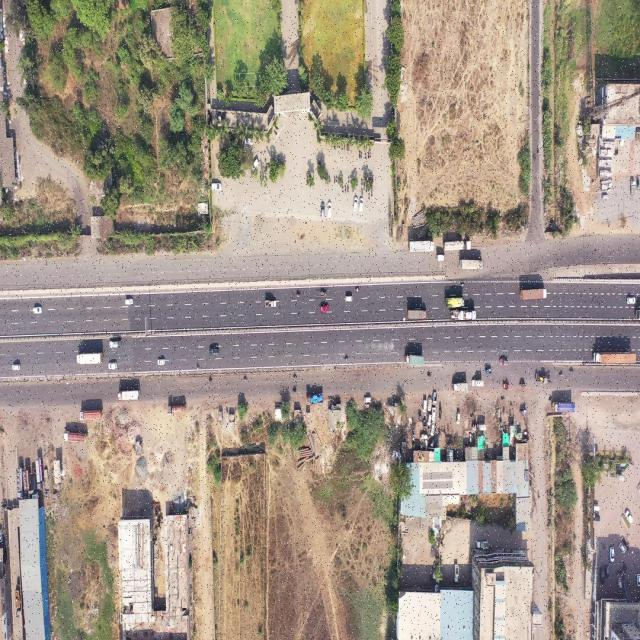3W: (519, 407, 528, 417), (502, 383, 509, 390), (485, 367, 492, 374), (518, 382, 526, 388)
Cars: (625, 508, 633, 524), (244, 135, 254, 147), (609, 546, 616, 563), (251, 158, 259, 171), (618, 542, 626, 555), (211, 182, 222, 191), (499, 356, 508, 367), (327, 201, 332, 220), (617, 578, 623, 593), (320, 304, 330, 313), (33, 305, 43, 314), (209, 347, 219, 356), (626, 296, 636, 305), (600, 568, 605, 585), (108, 361, 117, 370), (124, 298, 133, 307), (353, 197, 358, 213), (359, 196, 364, 212), (344, 295, 354, 303), (321, 201, 325, 220), (456, 410, 461, 425), (12, 363, 21, 371), (421, 399, 426, 413), (636, 572, 640, 589), (427, 396, 431, 412), (157, 358, 165, 366), (432, 408, 436, 423), (364, 396, 371, 404), (426, 414, 430, 426), (559, 371, 563, 378)
LCV: (474, 540, 488, 551), (454, 564, 460, 586), (471, 379, 484, 388), (109, 339, 122, 348), (265, 300, 276, 308), (436, 254, 445, 262)
M2W: (344, 353, 350, 362), (297, 290, 303, 299), (354, 285, 360, 294), (427, 370, 433, 378), (459, 281, 465, 288), (243, 375, 249, 381), (208, 377, 214, 383), (569, 367, 574, 374), (293, 374, 297, 381), (196, 363, 200, 370), (347, 174, 350, 183), (360, 177, 363, 186), (328, 175, 331, 184), (364, 152, 367, 161), (338, 144, 341, 151), (343, 143, 346, 150), (345, 183, 347, 193), (368, 191, 370, 201), (359, 149, 361, 159), (334, 175, 336, 184), (370, 151, 372, 160), (262, 171, 264, 180), (338, 176, 340, 185), (342, 185, 344, 194), (537, 146, 539, 155), (347, 186, 349, 193)
MAV: (591, 351, 640, 366), (442, 240, 471, 252)
Truck: (64, 429, 88, 444), (408, 240, 435, 253), (76, 352, 103, 365), (551, 401, 577, 414), (457, 361, 478, 377), (79, 409, 104, 422), (520, 288, 547, 300), (459, 258, 484, 270), (117, 390, 141, 402), (450, 309, 476, 320), (404, 352, 424, 366), (406, 307, 427, 320), (167, 403, 187, 416), (306, 393, 324, 407), (445, 296, 464, 307), (452, 382, 469, 392)
